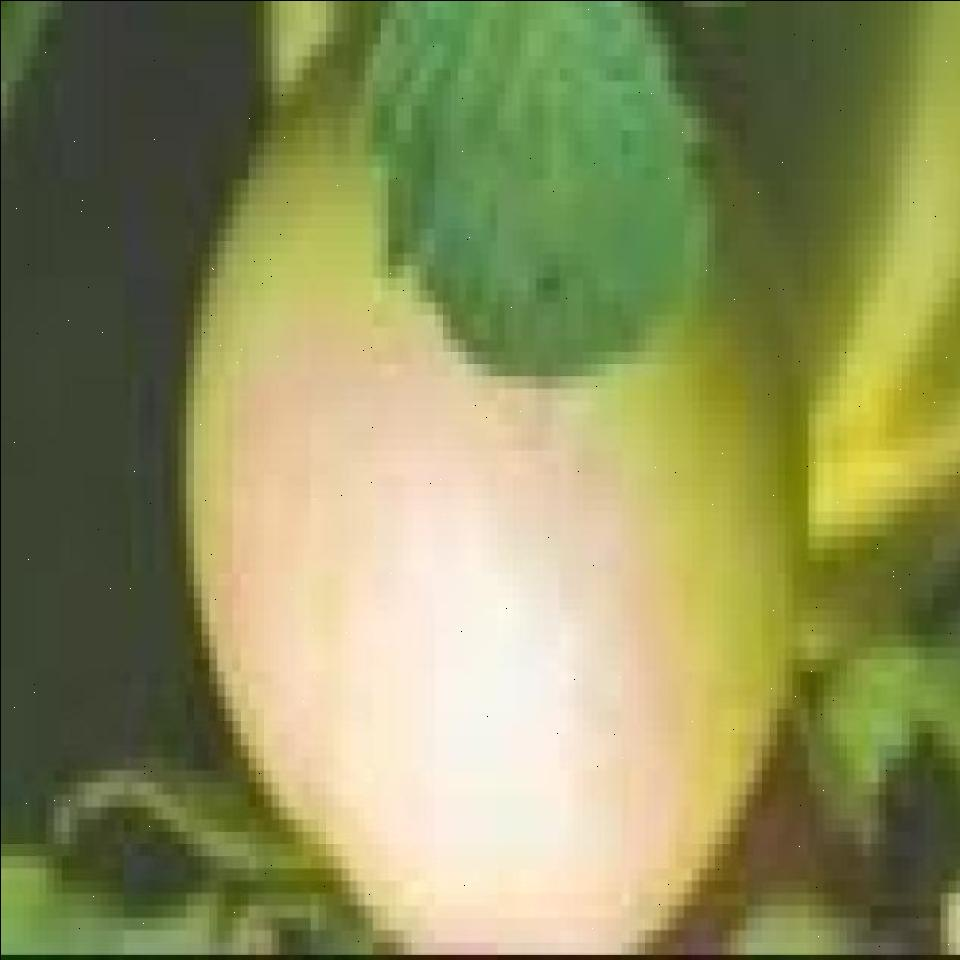Sunscald: (211, 327, 694, 960)
